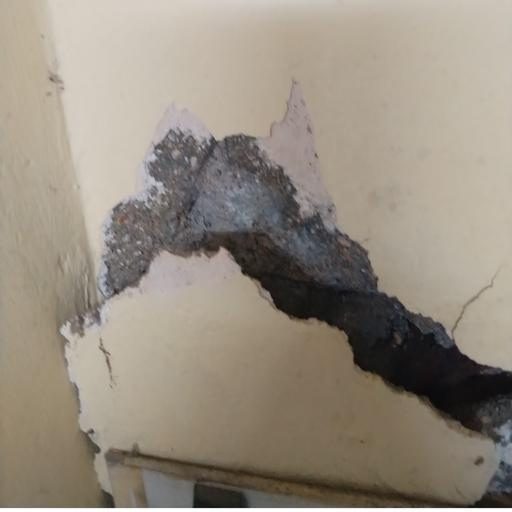spalling: (41, 66, 512, 469)
